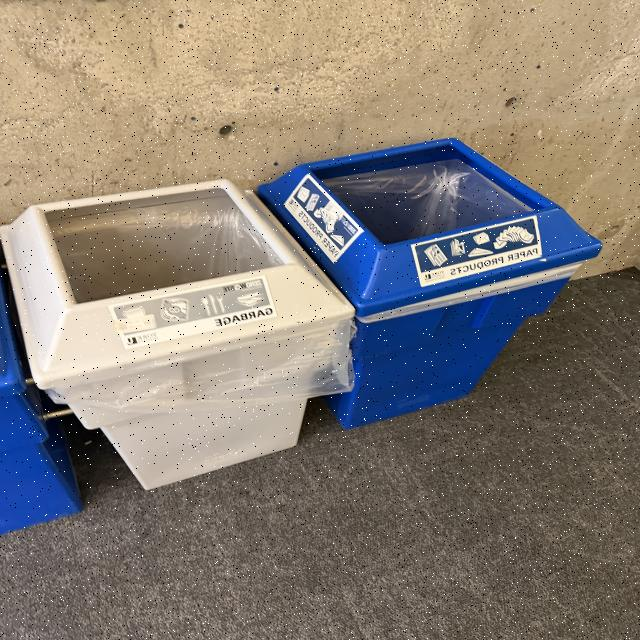Dustbin: (0, 134, 607, 532)
